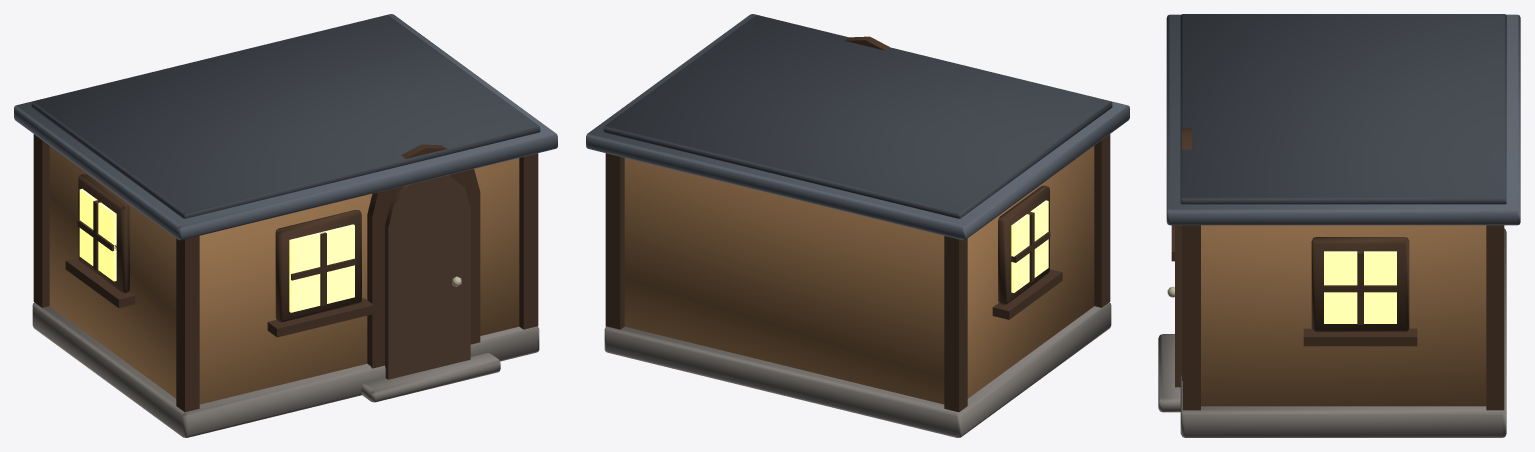
The model's file is v_workshop.glb.
3 views of the same model, side by side, from view 1: azimuth 30°, elevation 25°; view 2: azimuth 150°, elevation 25°; view 3: azimuth 270°, elevation 25° (orthographic). The views are drawn at different scales.
Parts seen in each view (by area): view 1: Workshop; view 2: Workshop; view 3: Workshop.
Boxes of the visible parts, <box> form: Workshop: <box>14,14,557,437</box>; Workshop: <box>586,14,1129,437</box>; Workshop: <box>1158,14,1520,437</box>.
Bounding box in the file's own units: 4.15 × 2.43 × 3.23.
